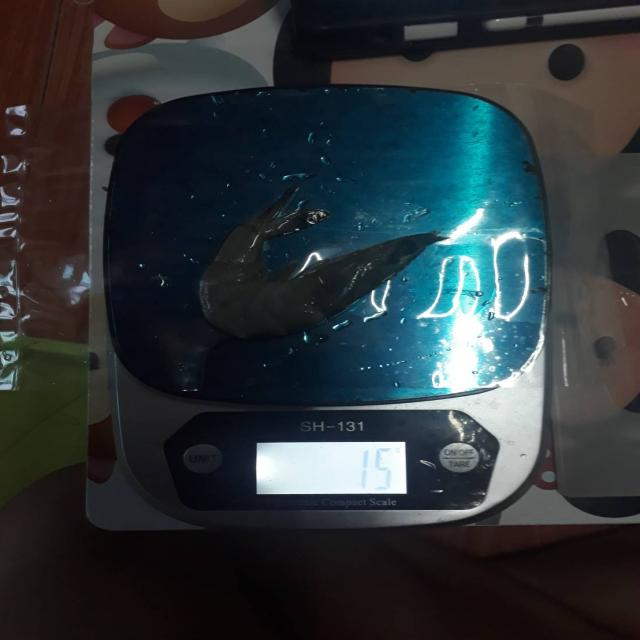1: (361, 447, 369, 490)
5: (373, 447, 394, 491)
screen: (256, 442, 408, 496)
